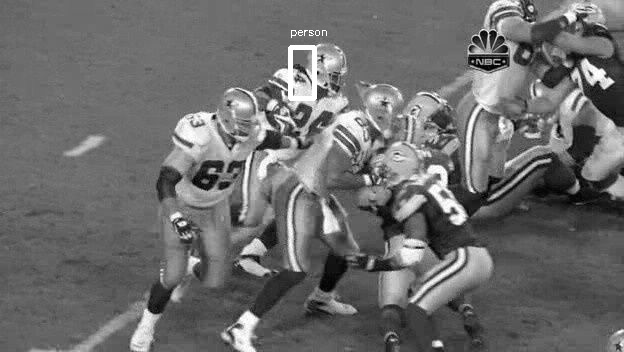person: (315, 42, 350, 87), (314, 42, 349, 87), (316, 42, 351, 87), (315, 41, 350, 86), (315, 43, 350, 88)
target_negative: (57, 243, 621, 310), (576, 84, 610, 310), (512, 164, 534, 291), (488, 295, 509, 340), (560, 210, 570, 284), (622, 212, 624, 297)
